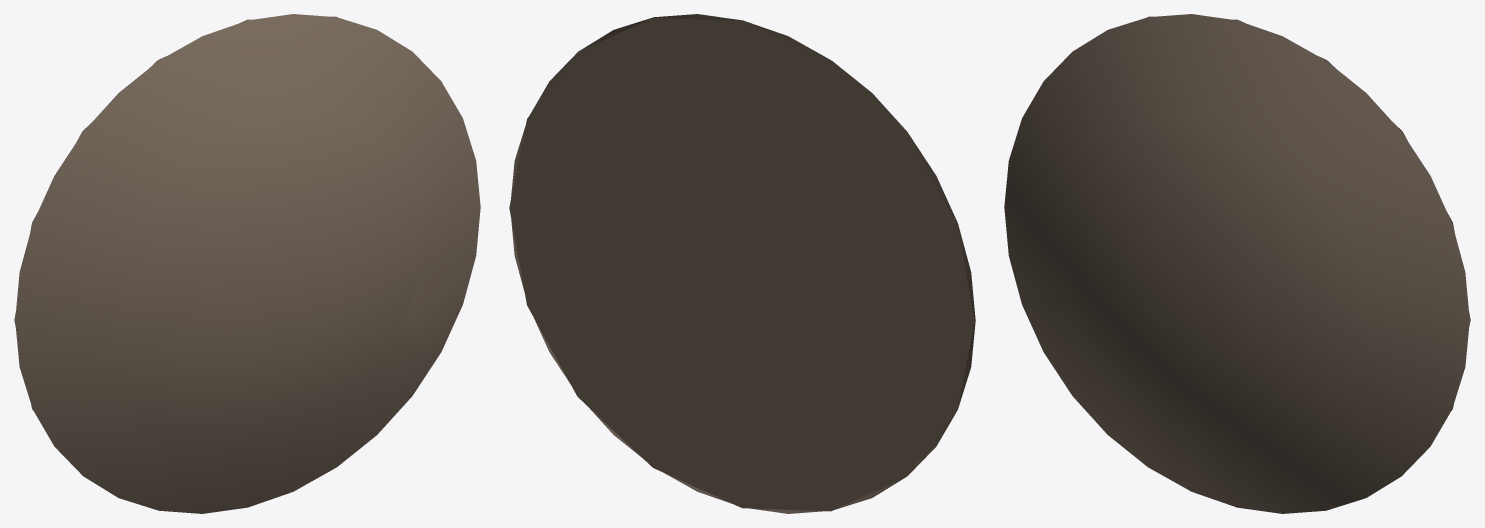
The model's file is xion_shield_round.dae.
3 renders of one model, left to right at view 1: azimuth 30°, elevation 25°; view 2: azimuth 150°, elevation 25°; view 3: azimuth 330°, elevation 25°, orthographic.
Visible parts, largest first — view 1: Plano_001_001_002; view 2: Plano_001_001_002; view 3: Plano_001_001_002.
Part boxes in pixels (<box>): Plano_001_001_002: <box>14,14,480,513</box>; Plano_001_001_002: <box>509,14,975,513</box>; Plano_001_001_002: <box>1004,14,1470,513</box>.
Size of the model in its own units: 1.1 by 0.1385 by 1.1.
